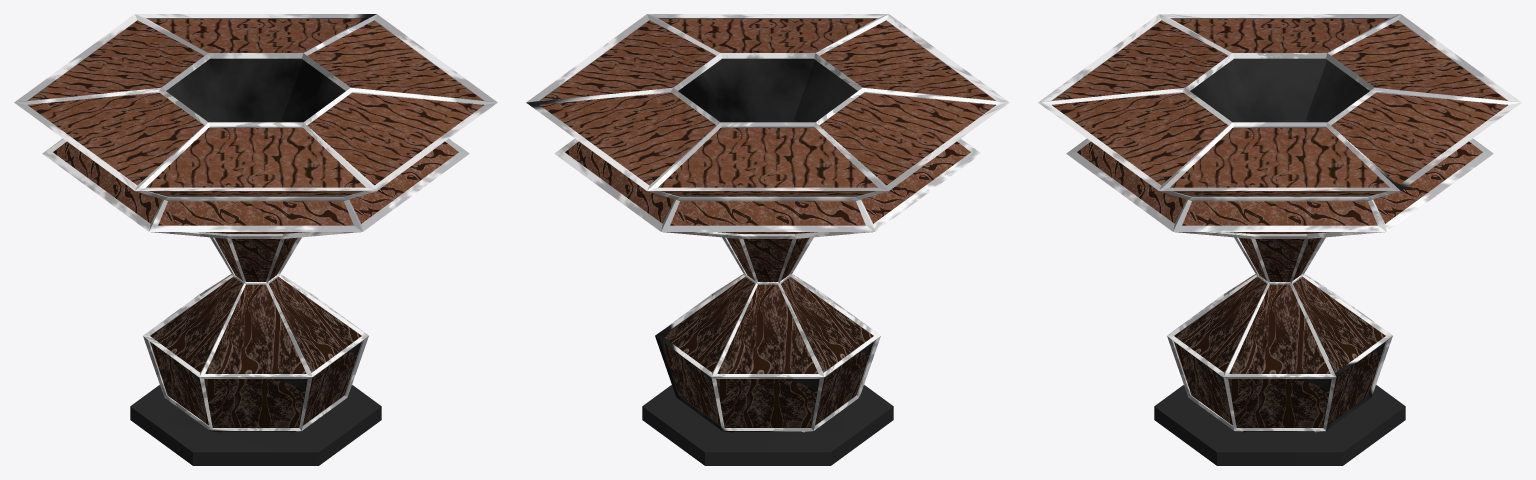
File: Brasero.fbx
3 renders of one model, left to right at view 1: azimuth 30°, elevation 25°; view 2: azimuth 150°, elevation 25°; view 3: azimuth 270°, elevation 25°, orthographic.
Parts seen in each view (by area): view 1: Brasero; view 2: Brasero; view 3: Brasero.
Boxes of the visible parts, x1=… form: Brasero: x1=14, y1=14, x2=497, y2=465; Brasero: x1=526, y1=14, x2=1009, y2=465; Brasero: x1=1038, y1=14, x2=1521, y2=465.
Size of the model in its own units: 233 by 204 by 269.
